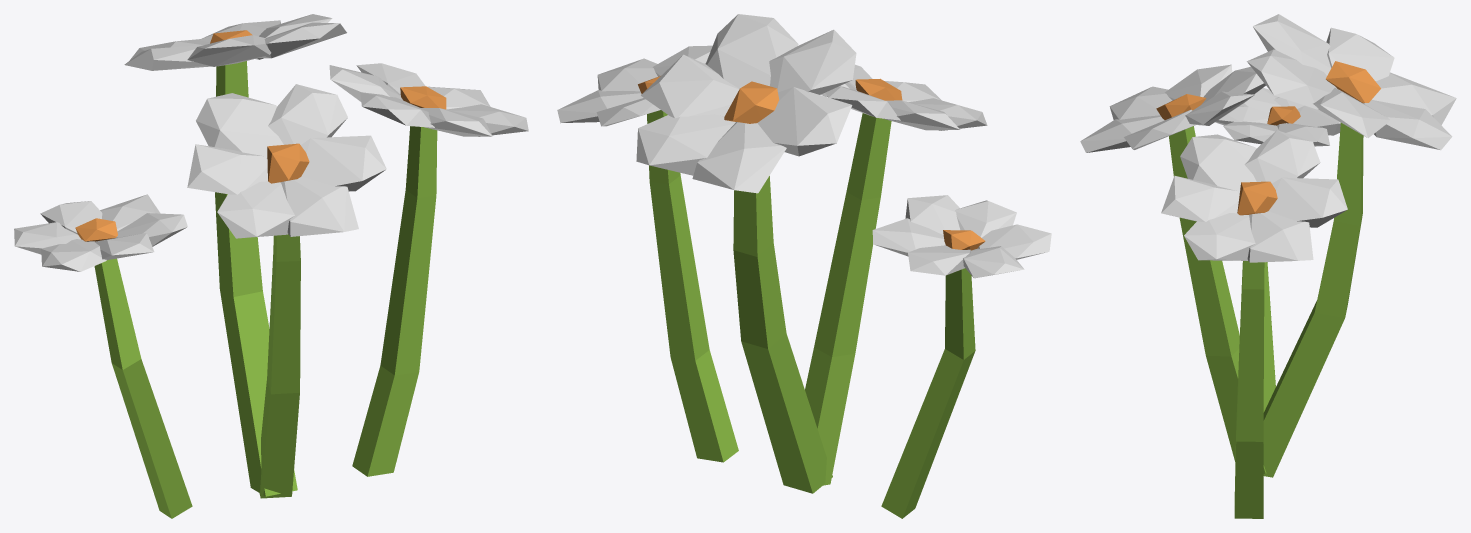
The model's file is flowers1.gltf.
The picture shows the model from 3 angles, left to right: view 1: azimuth 30°, elevation 25°; view 2: azimuth 150°, elevation 25°; view 3: azimuth 270°, elevation 25°; orthographic projection. The views are drawn at different scales.
Visible parts, largest first — view 1: Flower3_3; view 2: Flower3_3; view 3: Flower3_3.
Part boxes in pixels (<box>): Flower3_3: <box>14,14,528,518</box>; Flower3_3: <box>557,14,1051,518</box>; Flower3_3: <box>1080,14,1456,518</box>.
Bounding box in the file's own units: 0.8432 × 0.7851 × 0.6163.
